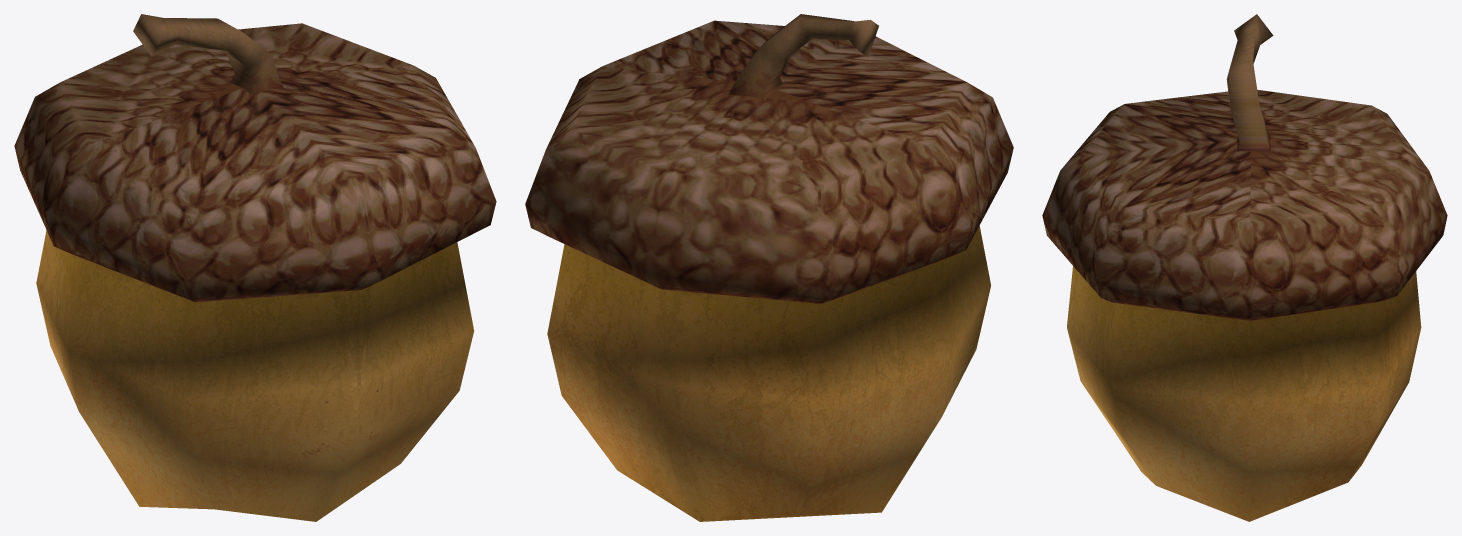
File: noz.FBX
3 views of the same model, side by side, from view 1: azimuth 30°, elevation 25°; view 2: azimuth 150°, elevation 25°; view 3: azimuth 270°, elevation 25° (orthographic). The views are drawn at different scales.
Parts seen in each view (by area): view 1: noz; view 2: noz; view 3: noz.
Boxes of the visible parts, box(x1,y1,x2,y2) form: noz: box(14, 14, 496, 521); noz: box(525, 14, 1013, 521); noz: box(1042, 14, 1447, 521).
Bounding box in the file's own units: 45.99 × 55.86 × 46.71.
